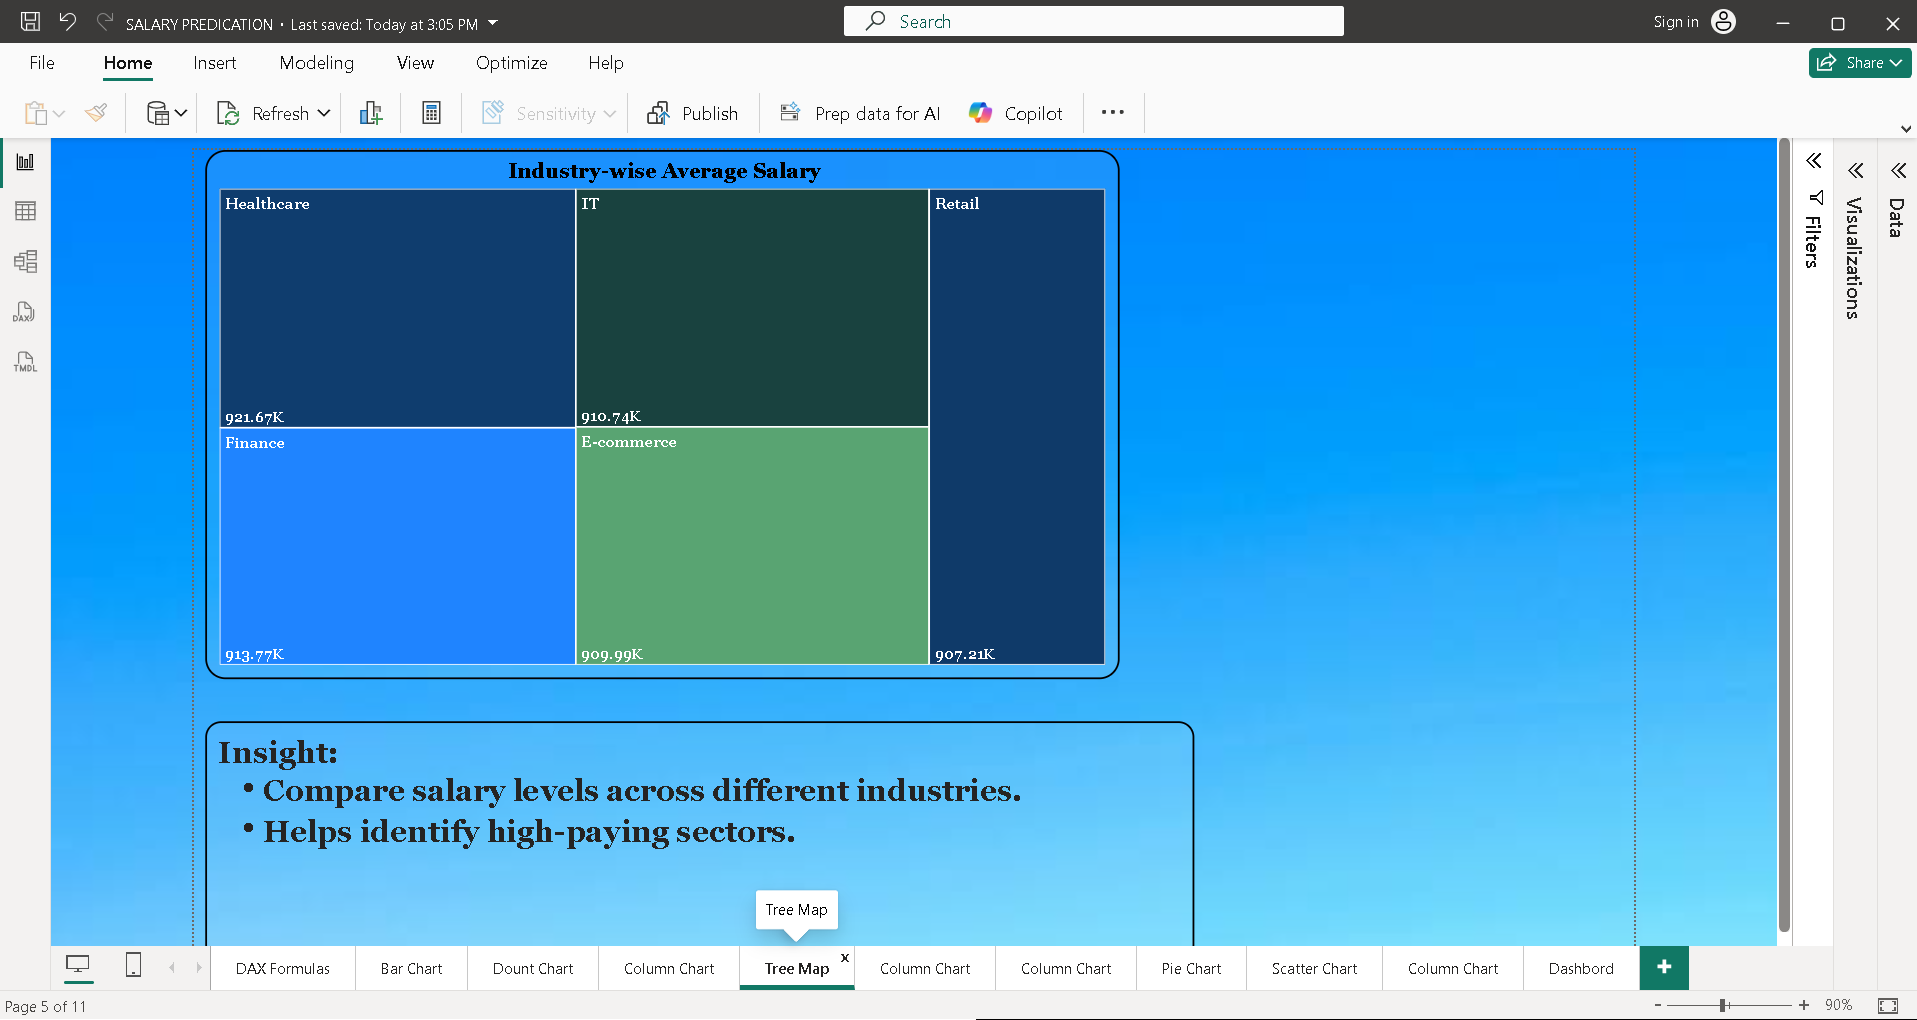

The page's visual inventory and layout, read from the dashboard file:
{"tool":"powerbi","page":{"name":"Tree Map","canvas":[1280,720],"ordinal":4},"visuals":[{"type":"treemap","title":"Industry-wise Average Salary","fields":{"Group":["clean_job_market_salary_fixed.Industry"],"Values":["Avg(clean_job_market_salary_fixed.Salary)"]},"box":[9.8,0,813.2,470.8],"z":0},{"type":"textbox","box":[9.8,507.5,879.2,212.8],"z":1000}]}

Visuals, with their boxes on the page's 1280x720 design canvas (x1, y1, x2, y2). These are canvas units, not pixel positions in the 1917x1020 screenshot, which may show the page scaled, cropped or inside an application window:
"Industry-wise Average Salary" treemap: crop(10, 0, 823, 471)
textbox: crop(10, 508, 889, 720)
